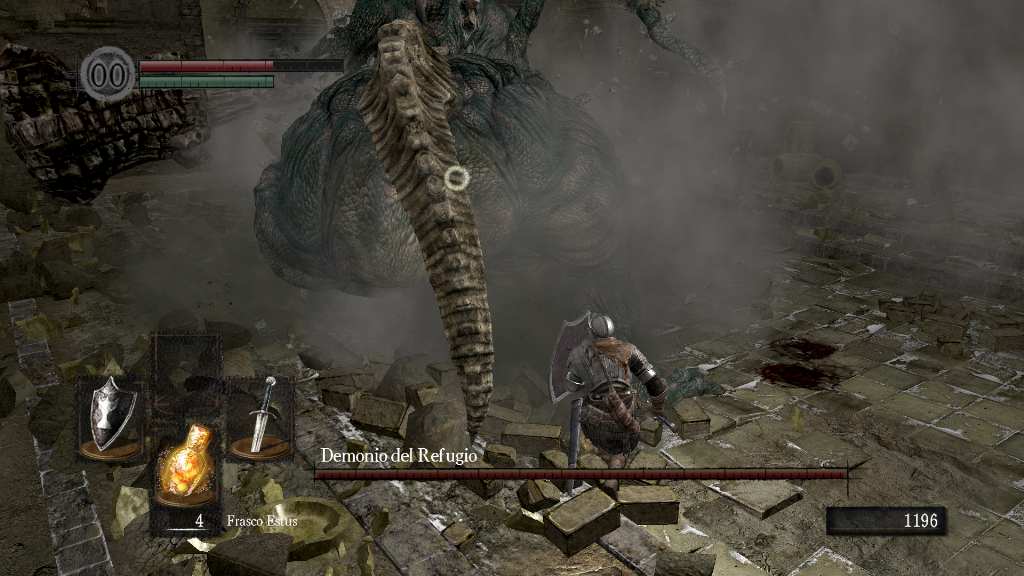asylumDemon: (254, 4, 722, 449)
bossHP: (314, 469, 847, 479)
health: (138, 58, 343, 71)
humanity: (80, 45, 136, 102)
player: (547, 310, 677, 465)
souls: (825, 506, 945, 536)
stamina: (138, 74, 274, 88)
